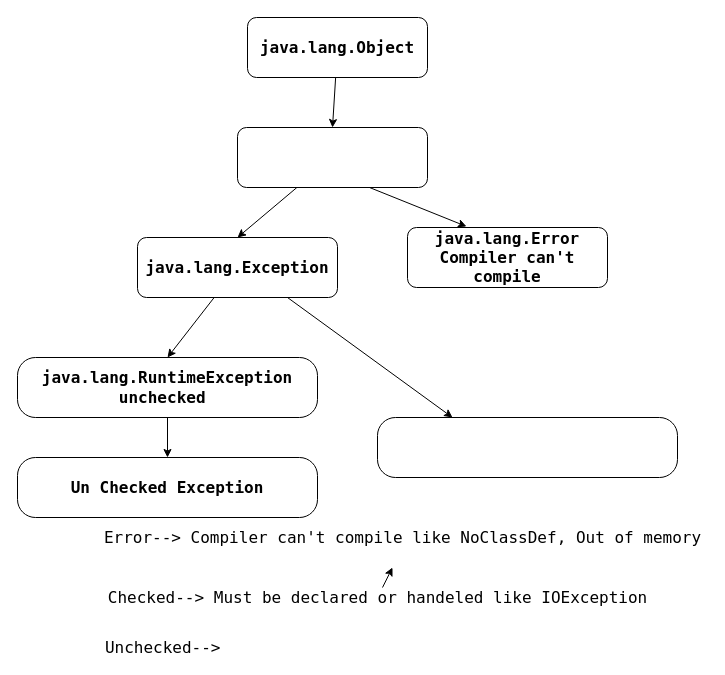
This 725x675 diagram has some shape labels left out. The centre of each missing label's shape, as x and y in pixels:
Checked Exception: point 527,447
java.lang.Throwable: point 332,157
